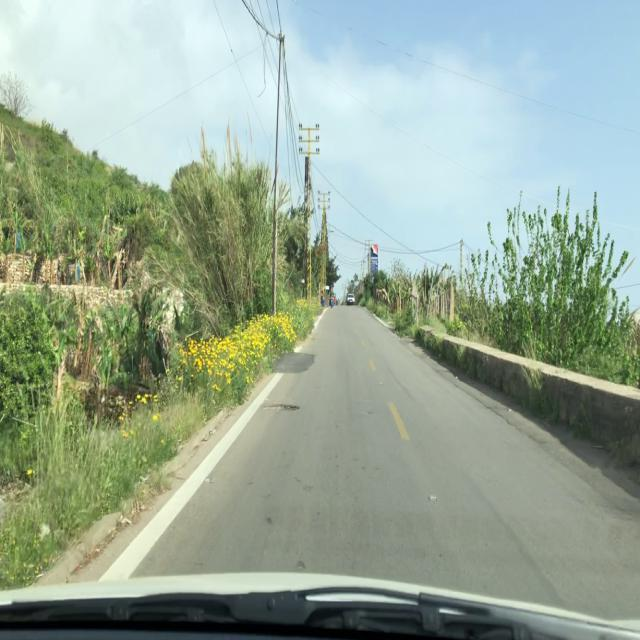pothole: (263, 402, 301, 415)
